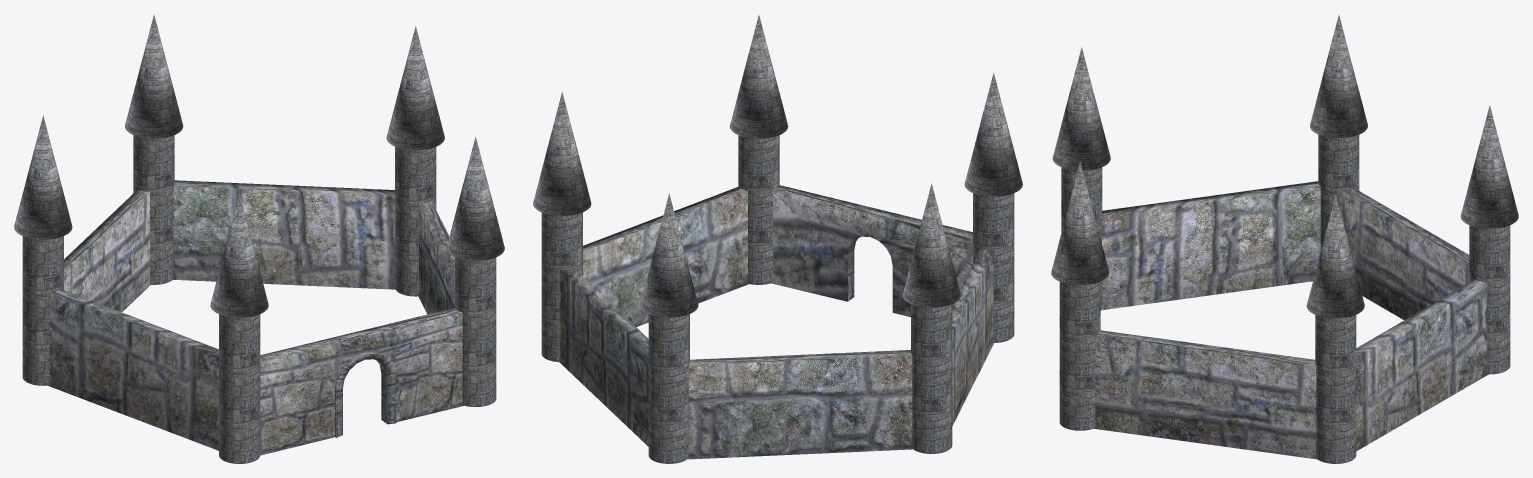
File: castle.fbx
The picture shows the model from 3 angles, left to right: view 1: azimuth 30°, elevation 25°; view 2: azimuth 150°, elevation 25°; view 3: azimuth 270°, elevation 25°; orthographic projection.
Visible parts, largest first — view 1: Mesh_002, Mesh_005, Mesh_018, Mesh_007, Mesh_001, Mesh_015, Mesh_016, Mesh_009, Mesh_012, Mesh_008, Mesh_004, Mesh_013 (+5 smaller); view 2: Mesh_007, Mesh_018, Mesh_003, Mesh_002, Mesh_016, Mesh_012, Mesh_005, Mesh_015, Mesh_001, Mesh_009, Mesh_017, Mesh_013 (+3 smaller); view 3: Mesh_003, Mesh_005, Mesh_002, Mesh_007, Mesh_009, Mesh_015, Mesh_012, Mesh_008, Mesh, Mesh_017, Mesh_004, Mesh_013 (+2 smaller).
Part boxes in pixels (<box>): Mesh_002: <box>173,180,395,289</box>; Mesh_005: <box>48,289,218,450</box>; Mesh_018: <box>260,307,463,455</box>; Mesh_007: <box>64,189,150,312</box>; Mesh_001: <box>219,314,260,463</box>; Mesh_015: <box>455,257,496,406</box>; Mesh_016: <box>22,236,63,385</box>; Mesh_009: <box>395,147,436,296</box>; Mesh_012: <box>133,135,174,284</box>; Mesh_008: <box>125,14,183,138</box>; Mesh_004: <box>14,115,72,239</box>; Mesh_013: <box>210,193,268,317</box>; Mesh_007: <box>688,350,912,459</box>; Mesh_018: <box>771,185,972,317</box>; Mesh_003: <box>583,186,748,326</box>; Mesh_002: <box>560,268,648,446</box>; Mesh_016: <box>911,304,952,453</box>; Mesh_012: <box>648,314,689,463</box>; Mesh_005: <box>952,248,993,425</box>; Mesh_015: <box>738,135,779,284</box>; Mesh_001: <box>973,193,1014,342</box>; Mesh_009: <box>541,212,582,362</box>; Mesh_017: <box>729,15,788,138</box>; Mesh_013: <box>964,72,1022,196</box>; Mesh_003: <box>1094,330,1317,459</box>; Mesh_005: <box>1101,181,1320,310</box>; Mesh_002: <box>1356,279,1488,451</box>; Mesh_007: <box>1343,188,1469,320</box>; Mesh_009: <box>1315,315,1356,463</box>; Mesh_015: <box>1059,281,1100,430</box>; Mesh_012: <box>1469,225,1510,374</box>; Mesh_008: <box>1460,105,1518,228</box>; Mesh: <box>1306,195,1364,318</box>; Mesh_017: <box>1051,161,1109,284</box>; Mesh_004: <box>1310,15,1367,137</box>; Mesh_013: <box>1052,47,1110,170</box>.
Size of the model in its own units: 18.83 by 11.25 by 18.18.
